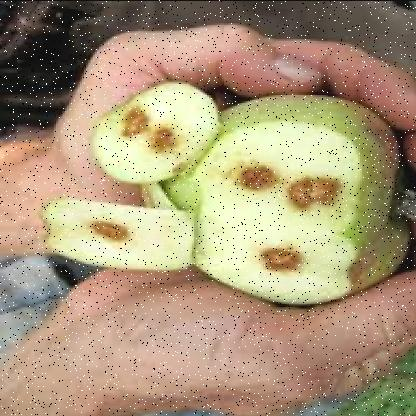damaged_apple: (67, 84, 403, 304)
